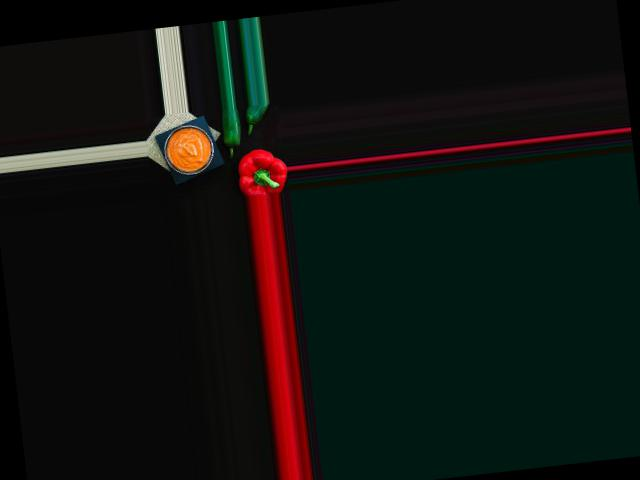bell_pepper: (235, 148, 288, 197)
